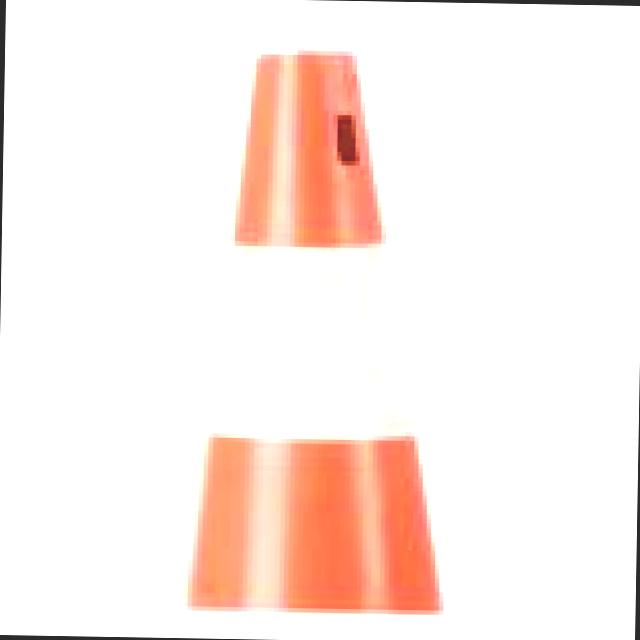cone: (184, 45, 464, 626)
